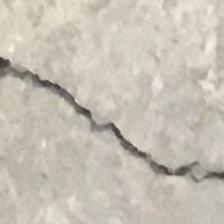Crack: (1, 18, 224, 224)
